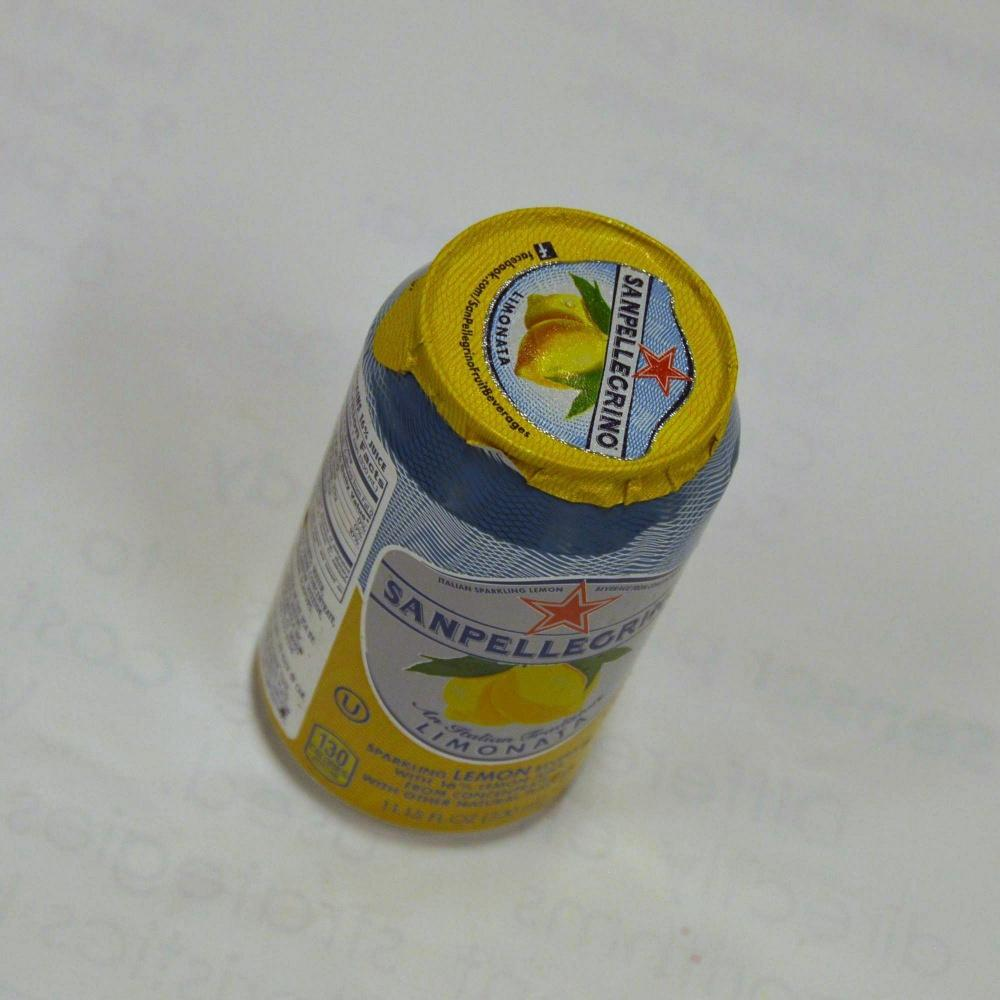Metal: (208, 165, 786, 858)
